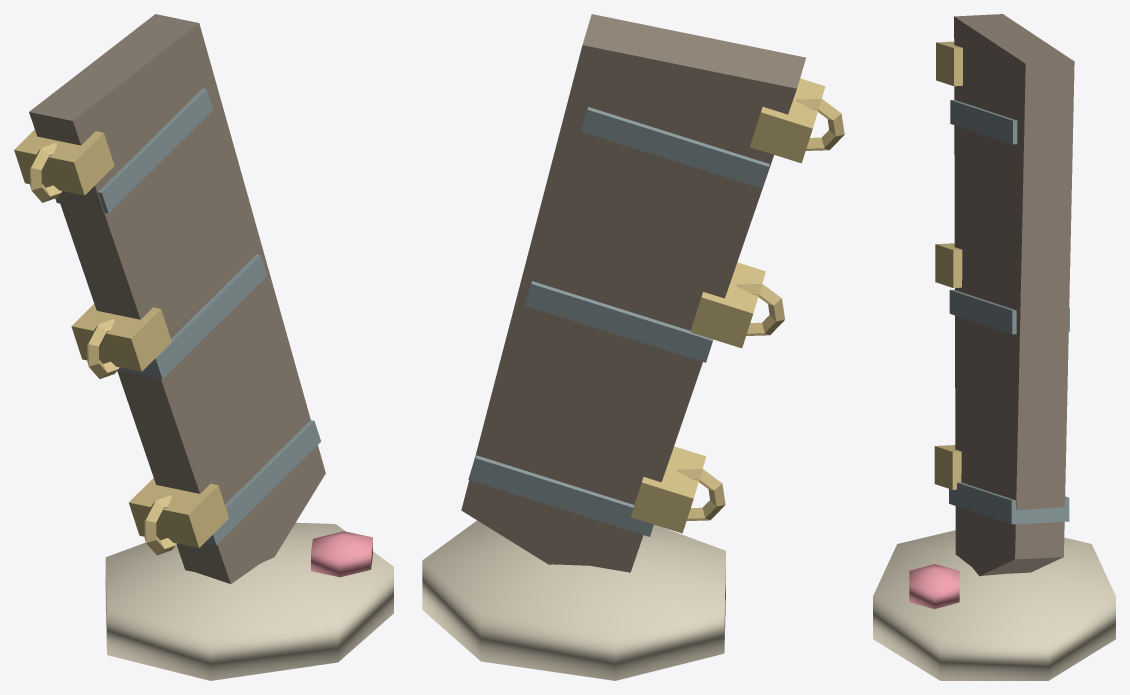
Rendered from sunken-city-and-underwater-ruins-ships-rudder-9ea0b220__36983.glb.
3 views of the same model, side by side, from view 1: azimuth 30°, elevation 25°; view 2: azimuth 150°, elevation 25°; view 3: azimuth 270°, elevation 25° (orthographic). The views are drawn at different scales.
Parts seen in each view (by area): view 1: ships-rudder; view 2: ships-rudder; view 3: ships-rudder.
Boxes of the visible parts, x1,y1,x2,y2 form: ships-rudder: (14,14,393,680); ships-rudder: (422,14,844,680); ships-rudder: (873,14,1115,680).
Bounding box in the file's own units: 1.58 × 2.63 × 1.01.
